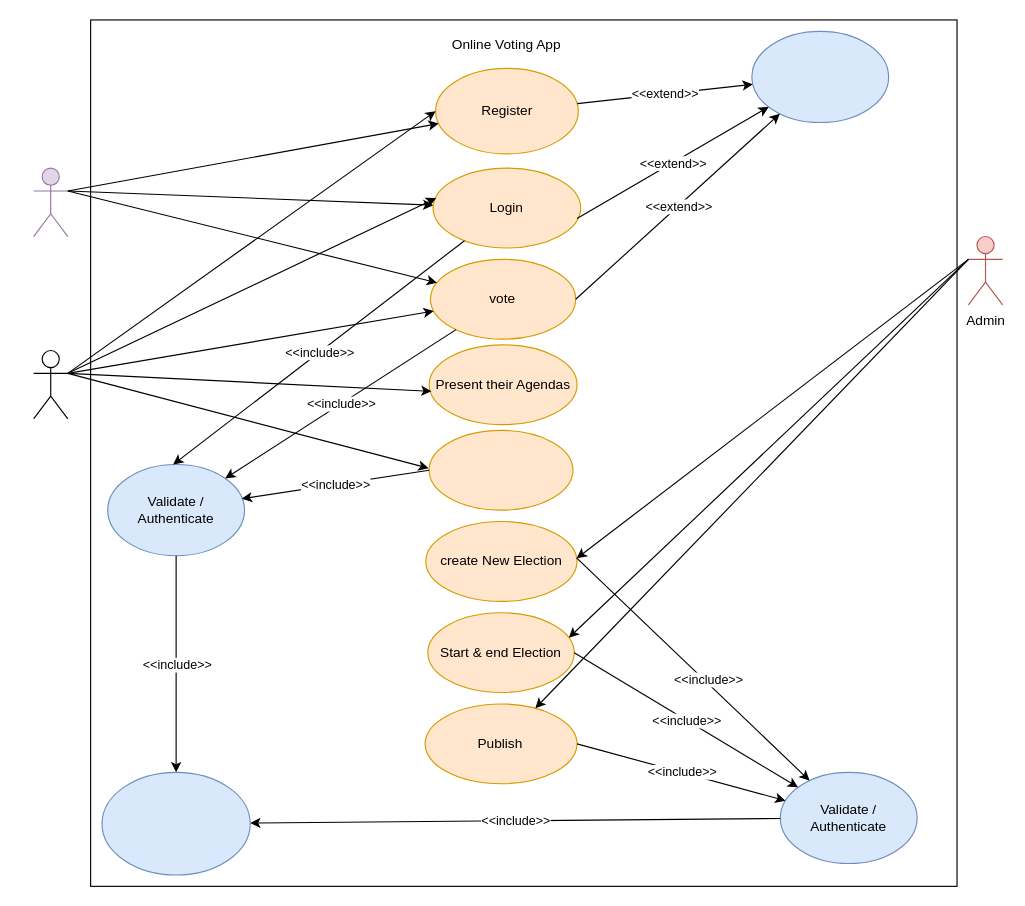
This 1025x906 diagram has some shape labels left out. The shapes that lost their labels are listed below. From the top down, each one's centre as x and y in pixels, then its label:
point (820, 76): Display message
point (50, 202): Voters
point (50, 384): Candidate
point (500, 469): Apply for candidate
point (175, 823): Authorization for particular request
